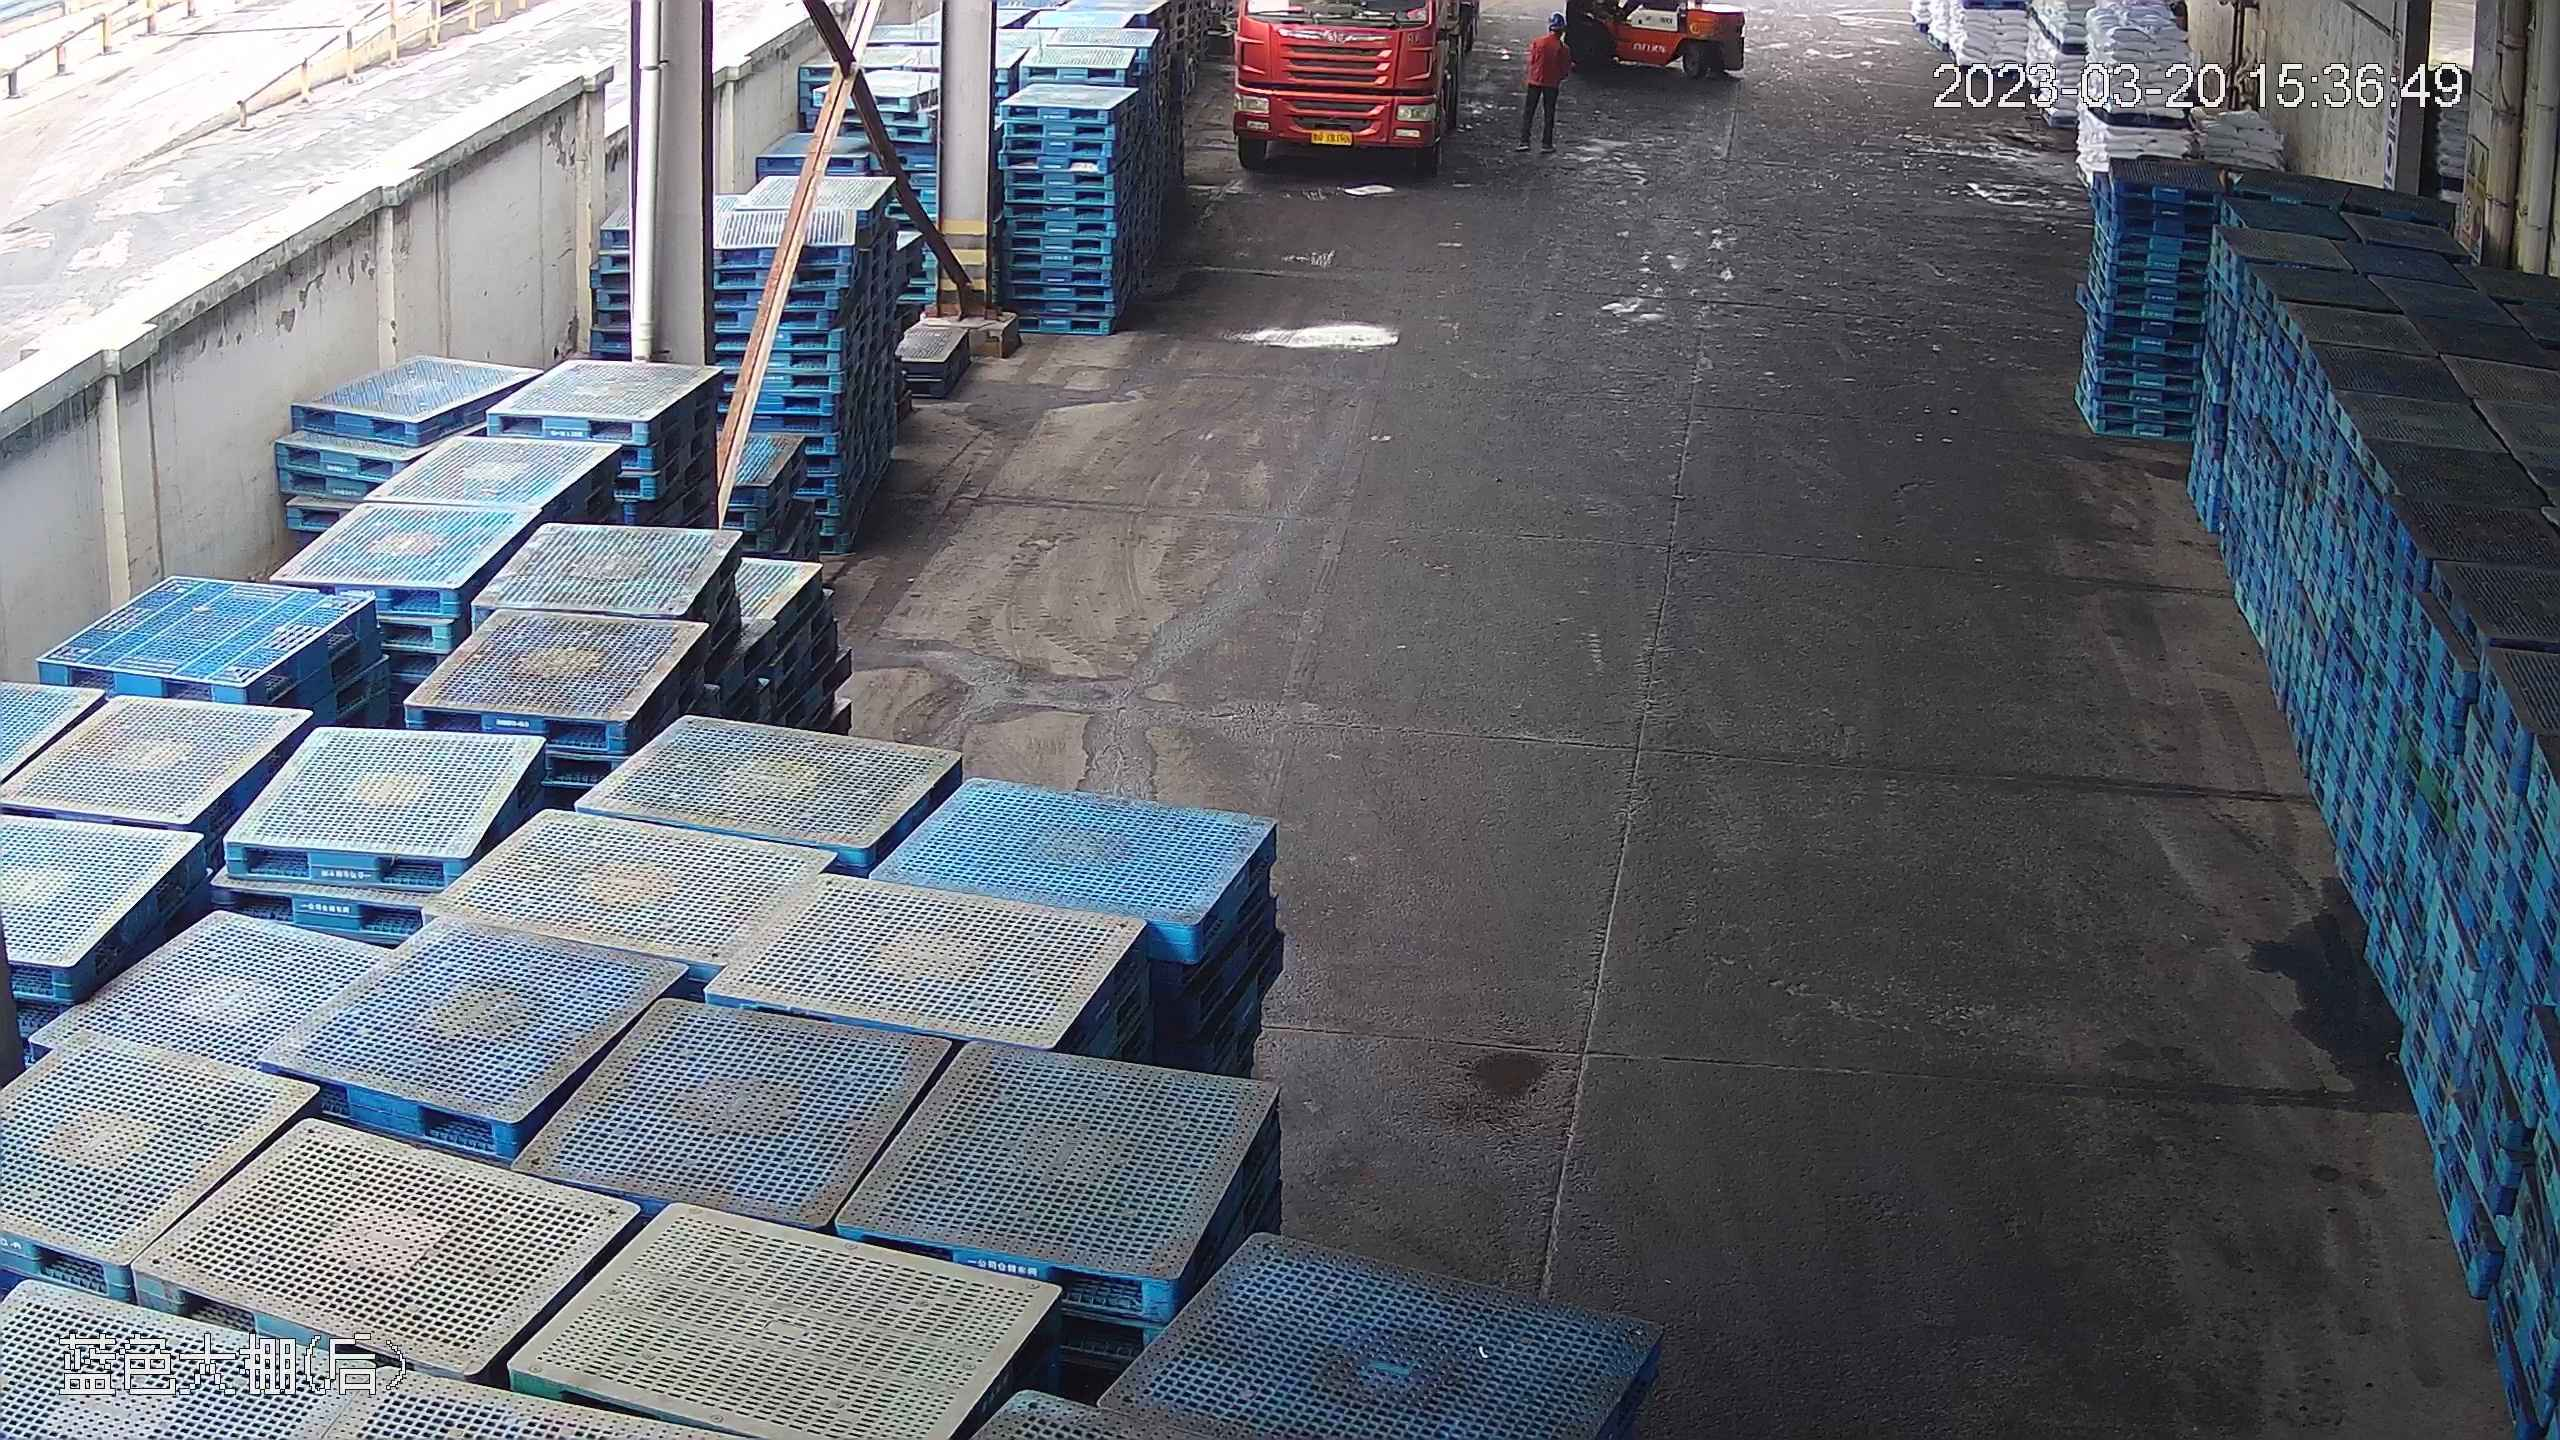head: (1527, 17, 1565, 59)
helmet: (1546, 11, 1565, 30)
people: (1517, 15, 1570, 149)
truck: (1230, 1, 1475, 163)
